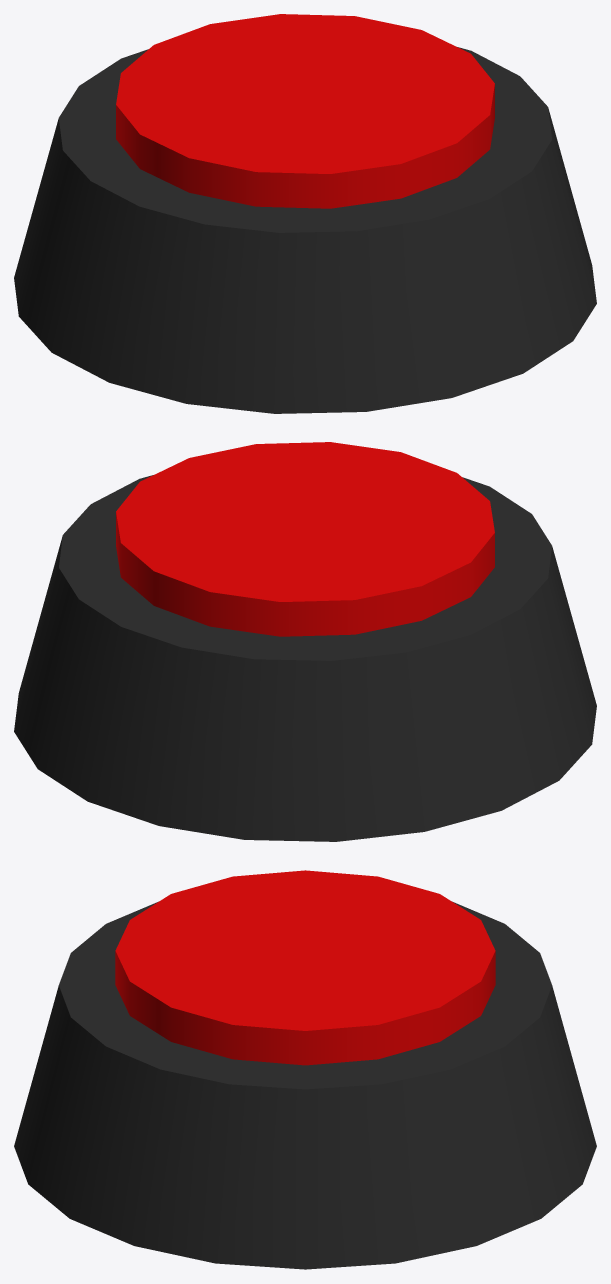
The model's file is button.fbx.
3 renders of one model, top to bottom at view 1: azimuth 30°, elevation 25°; view 2: azimuth 150°, elevation 25°; view 3: azimuth 270°, elevation 25°, orthographic.
Visible parts, largest first — view 1: buttonBase, button; view 2: buttonBase, button; view 3: buttonBase, button.
Boxes of the visible parts, box(x1,y1,x2,y2) form: buttonBase: box(14, 47, 596, 413); button: box(116, 14, 494, 208); buttonBase: box(14, 475, 596, 841); button: box(116, 442, 494, 636); buttonBase: box(14, 901, 596, 1269); button: box(115, 870, 495, 1065).
Bounding box in the file's own units: 7.84 × 2.9 × 7.84.
